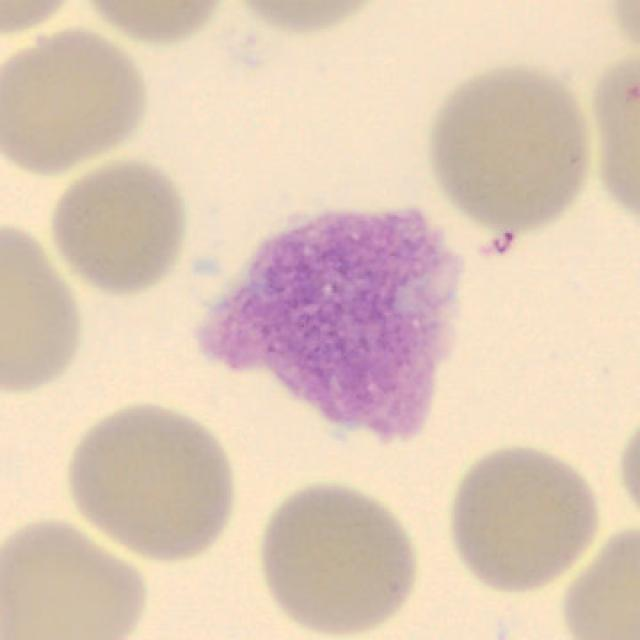Restos celulares: (208, 210, 464, 443)
